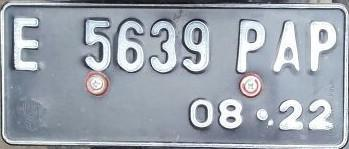3: (144, 18, 177, 78)
5: (78, 16, 116, 72)
6: (113, 18, 148, 74)
9: (175, 17, 215, 77)
A: (270, 18, 308, 74)
E: (9, 10, 40, 76)
P: (304, 20, 340, 74), (236, 19, 270, 76)
